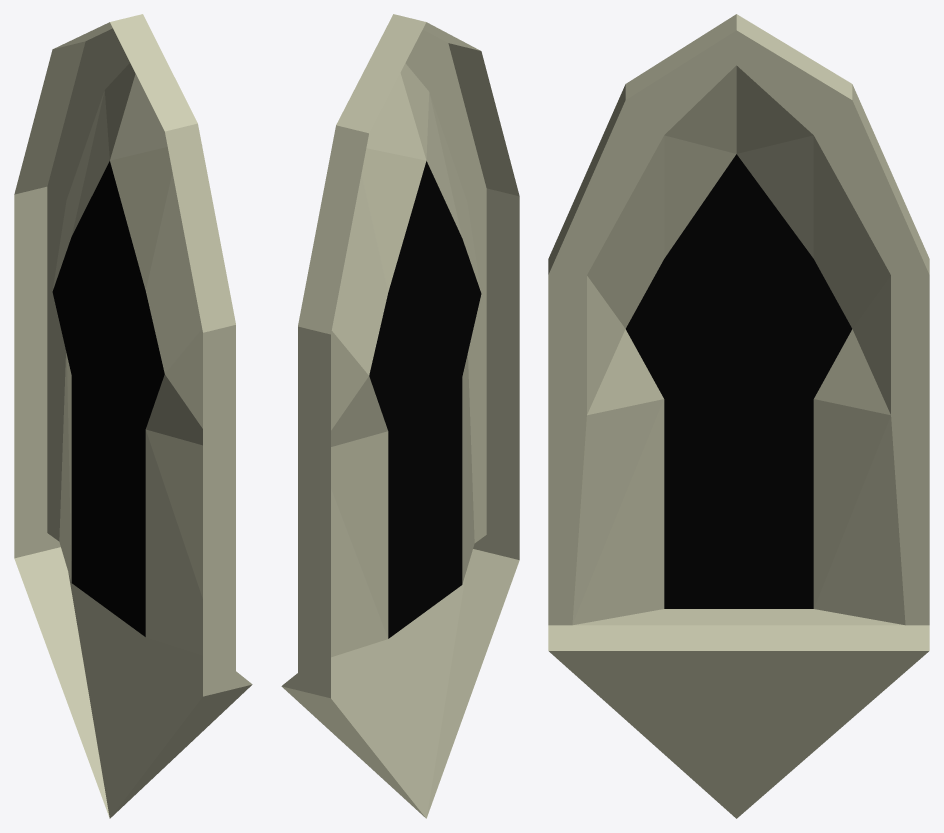
The model's file is obj_window_1_0.obj.
3 renders of one model, left to right at view 1: azimuth 30°, elevation 25°; view 2: azimuth 150°, elevation 25°; view 3: azimuth 270°, elevation 25°, orthographic.
Size of the model in its own units: 0.0938 by 1.44 by 0.6172.
